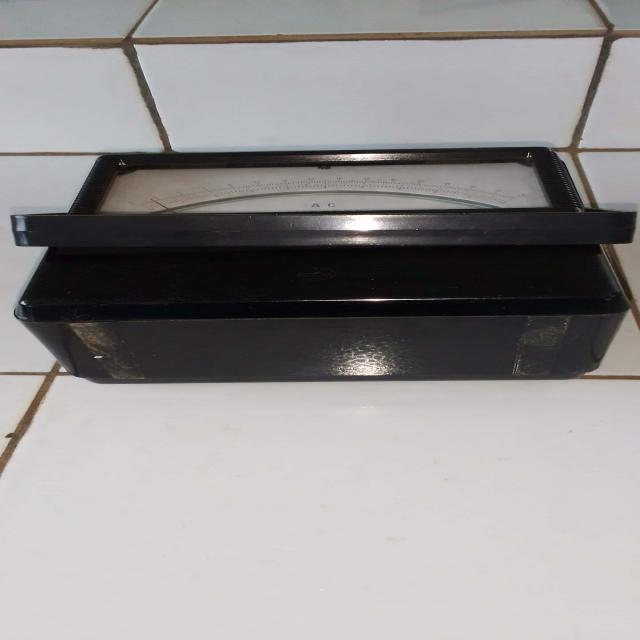Ammeter Analog: (15, 134, 637, 390)
